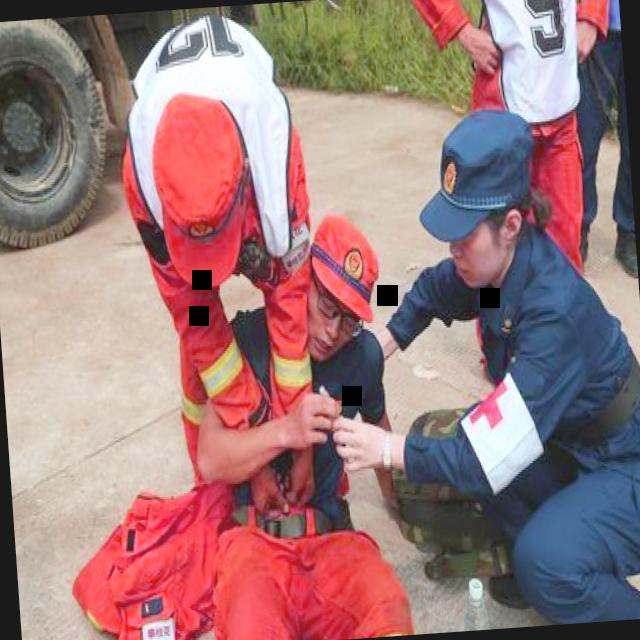Fall-Detected: (102, 167, 429, 640)
